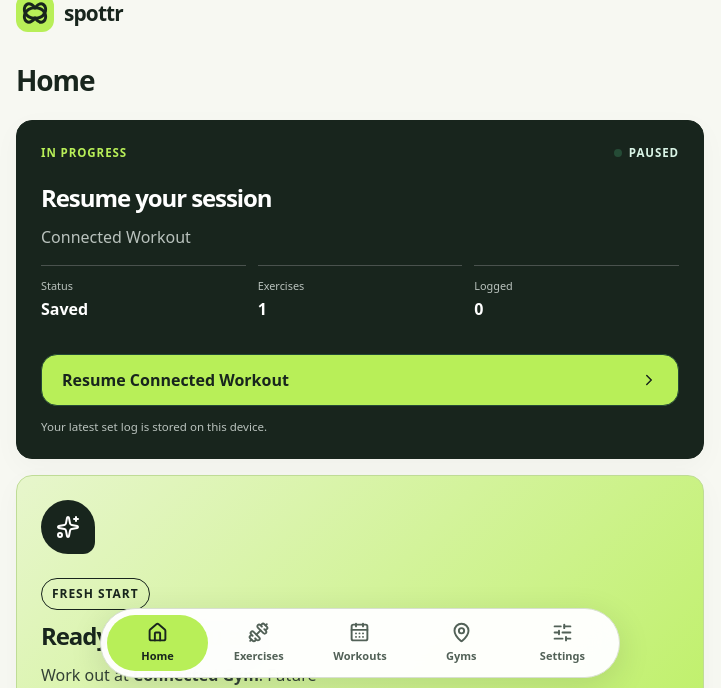
connected Home journey › resolves current shared name and notes on Resume without changing the session snapshot
Click the button "Resume Connected Workout".
click(175, 380)  # box [41,354,679,406]
(page scrolled)
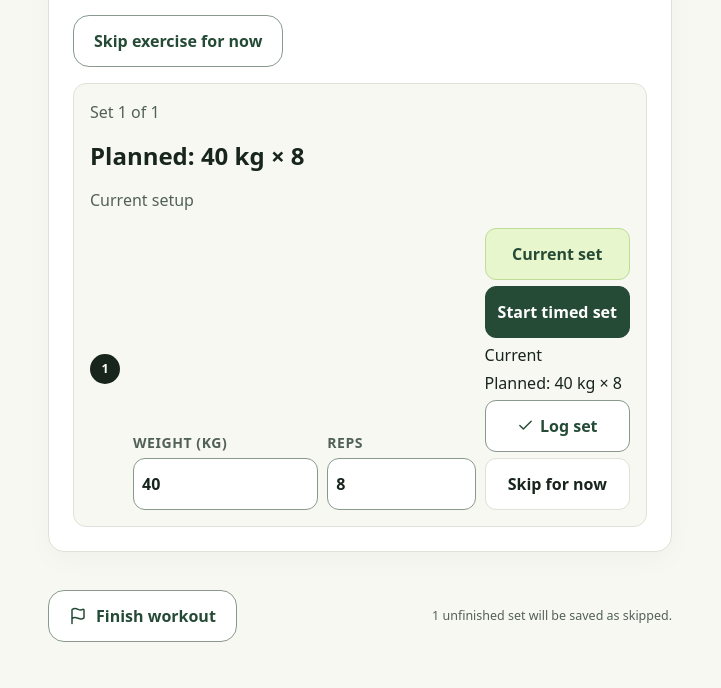
Expected: the text "Current setup" is shown, [90,189,194,211]
Expected: the button with aria-label "Log Current Row set 1" is shown, [485,400,630,452]
